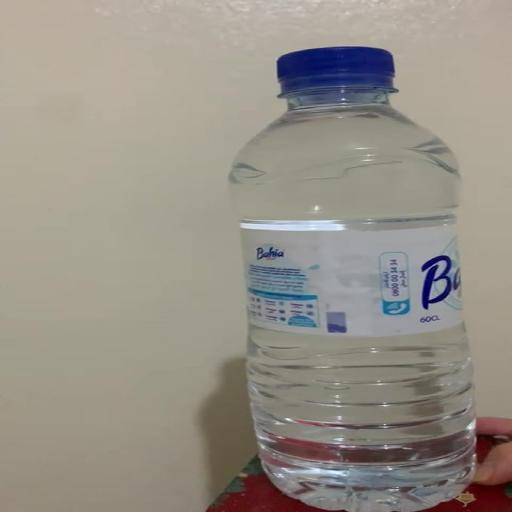bouteille conformite: (230, 46, 474, 511)
